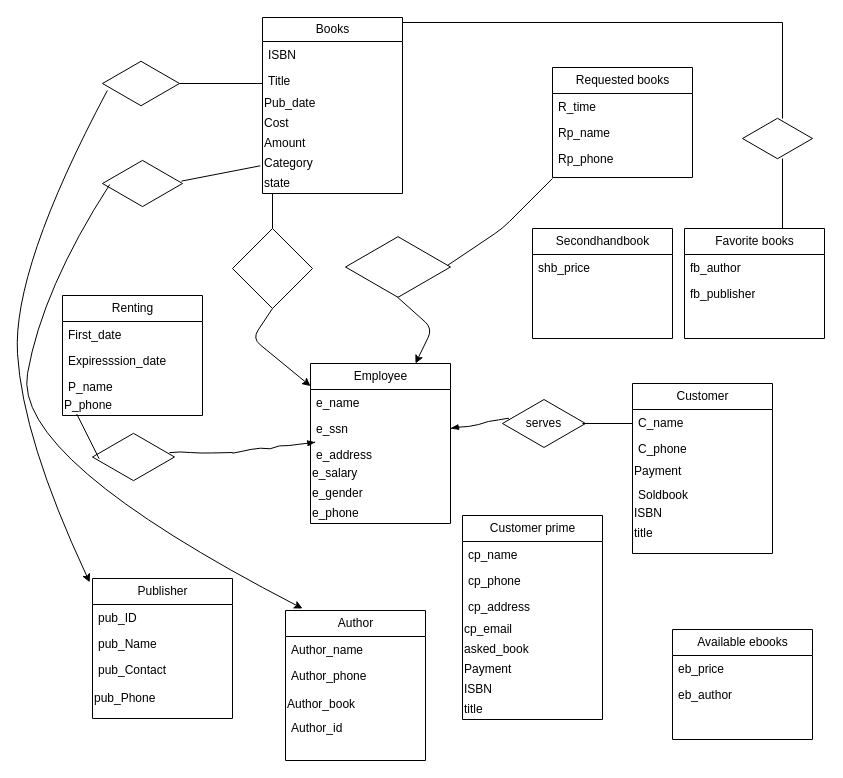
Image size: 843x778. Some labels were removed from this diagram. The centre of each missing label's shape, as x and y in pixels:
include: pixel 777 138
Prepare: pixel 397 266
print: pixel 141 83
rents: pixel 133 457
Sells: pixel 272 268
written by: pixel 142 183
